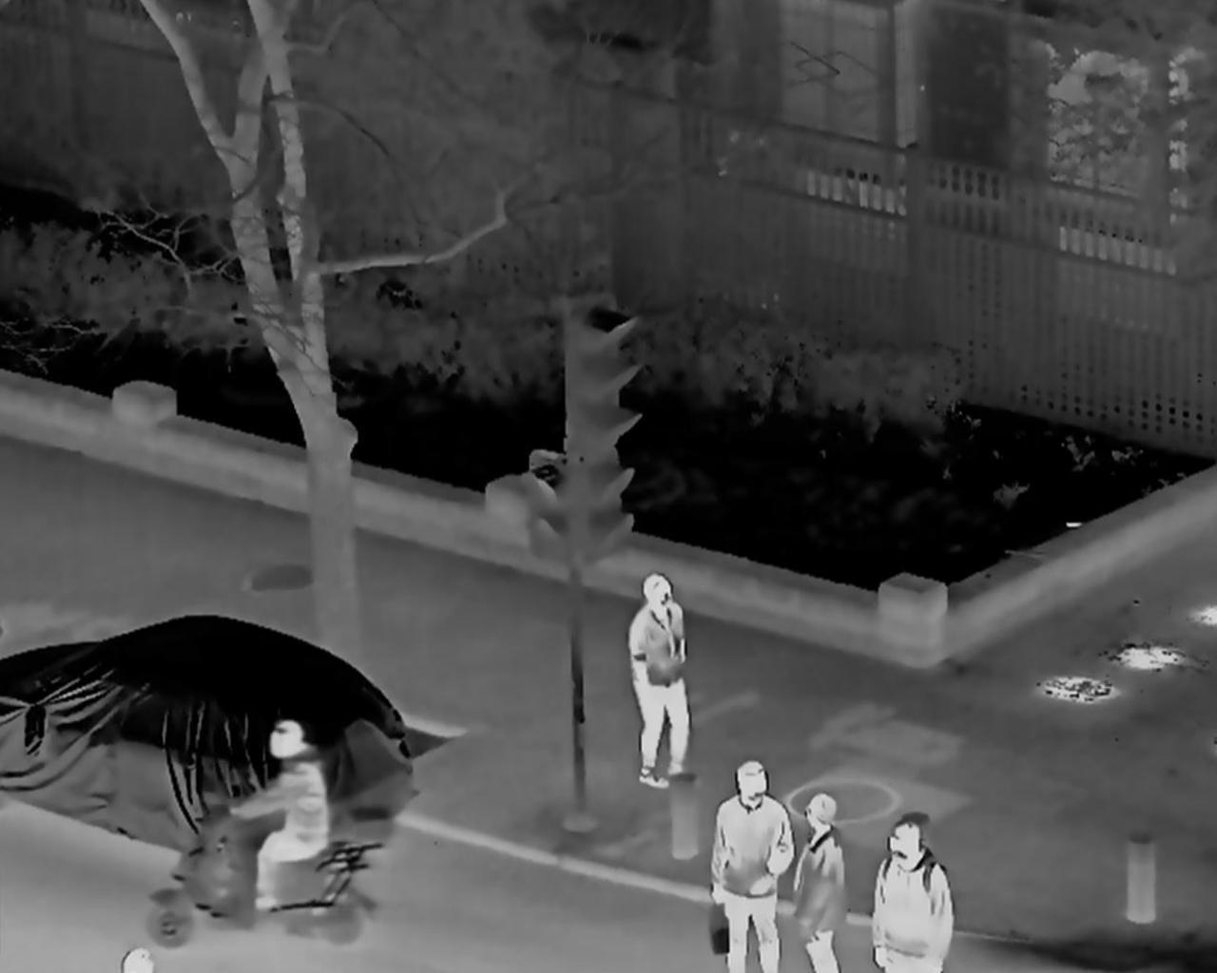person: (225, 719, 329, 918), (623, 571, 700, 795), (710, 763, 787, 973), (867, 817, 958, 973), (793, 795, 852, 973)
